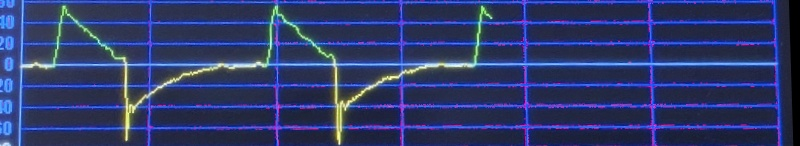normal_flow: (18, 0, 494, 146)
